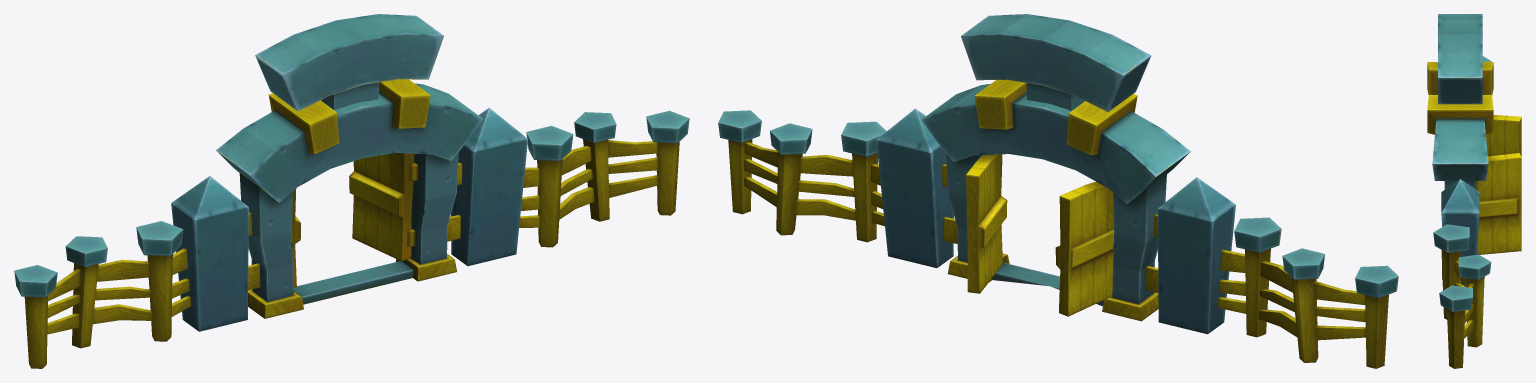
Rendered from tenkei_gate02.obj.
The picture shows the model from 3 angles, left to right: view 1: azimuth 30°, elevation 25°; view 2: azimuth 150°, elevation 25°; view 3: azimuth 270°, elevation 25°; orthographic projection. The views are drawn at different scales.
Visible parts, largest first — view 1: tenkei_gate02.001; view 2: tenkei_gate02.001; view 3: tenkei_gate02.001.
Boxes of the visible parts, <box> form: tenkei_gate02.001: <box>14,14,689,368</box>; tenkei_gate02.001: <box>718,14,1398,368</box>; tenkei_gate02.001: <box>1427,14,1521,368</box>.
Size of the model in its own units: 8.17 by 2.99 by 1.23.
1 material, 1 textured.
